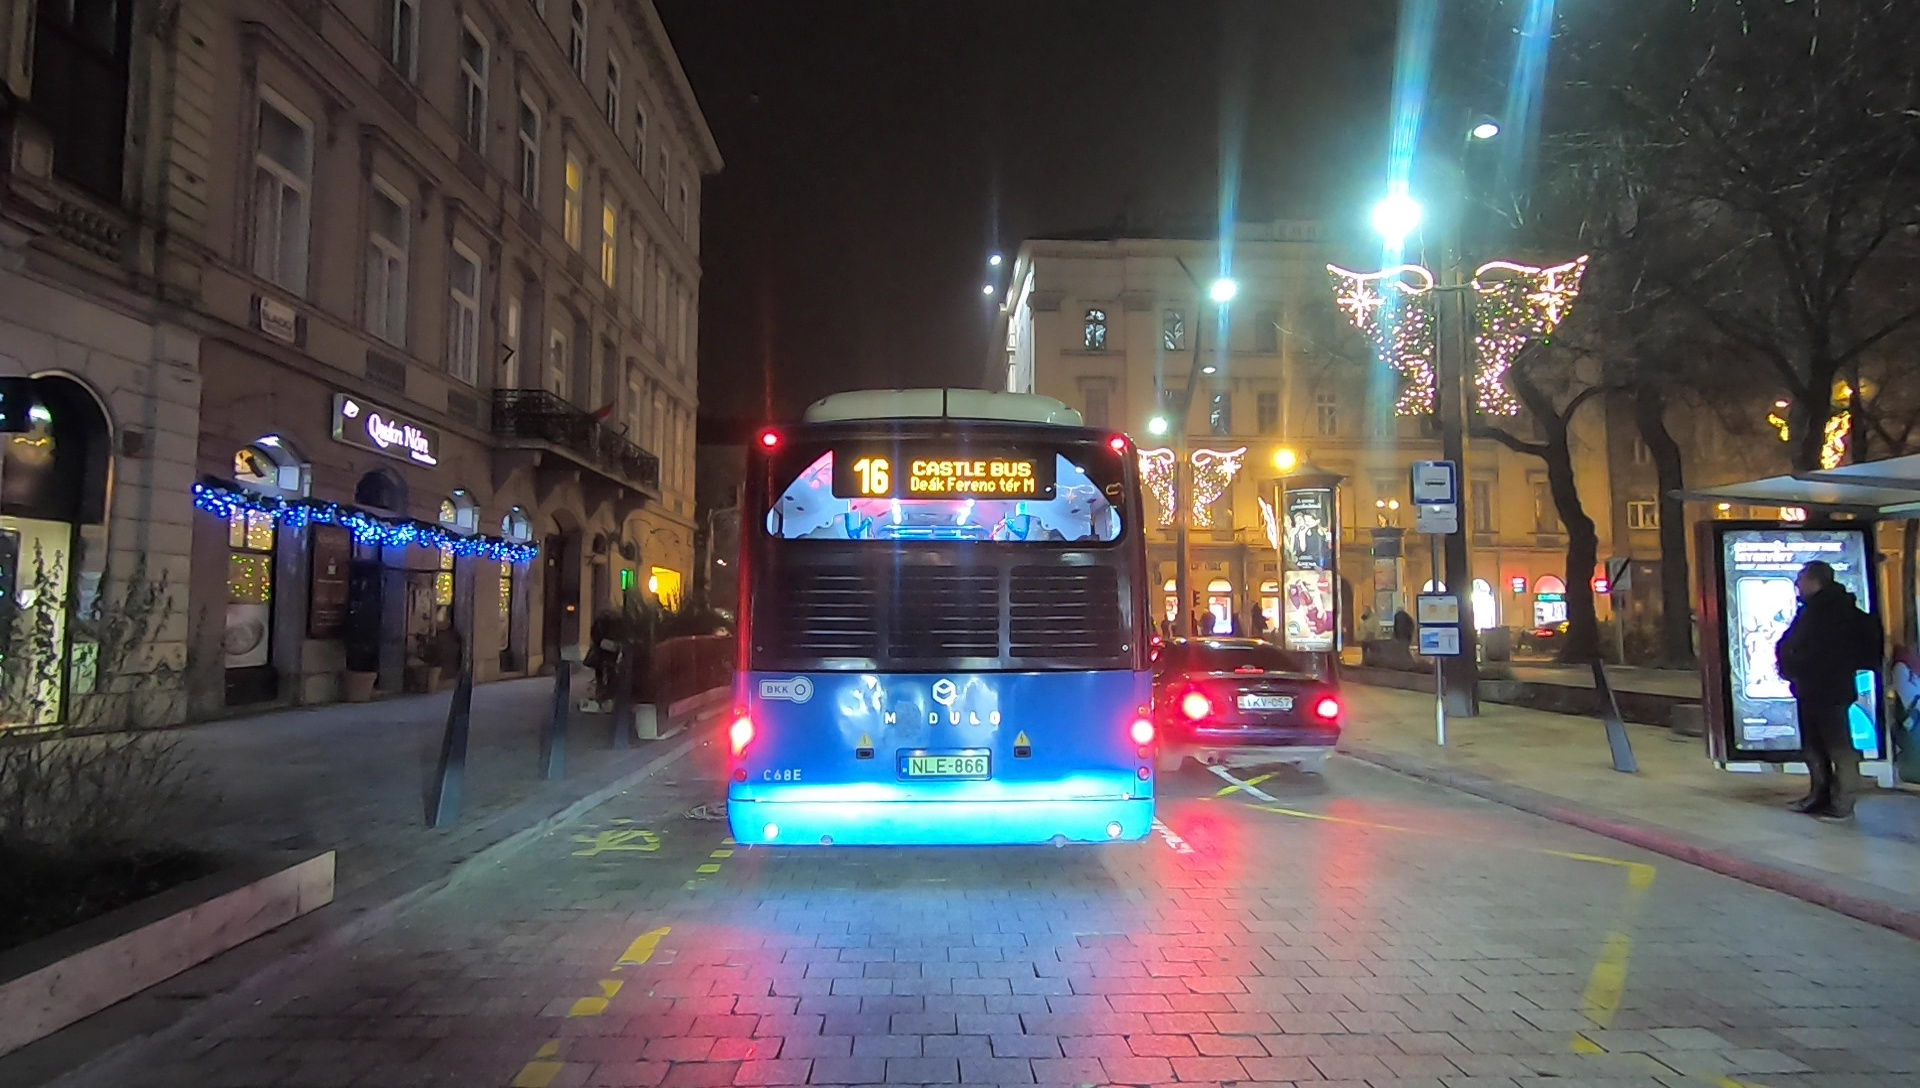person: (1779, 562, 1886, 826), (585, 602, 622, 712), (1389, 609, 1415, 662), (1358, 606, 1383, 662)
